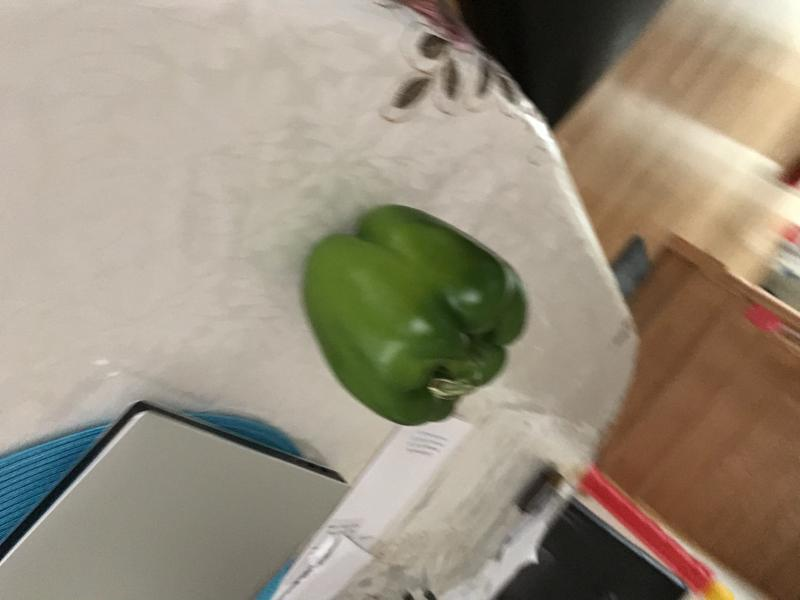green_pepper: (293, 190, 535, 436)
